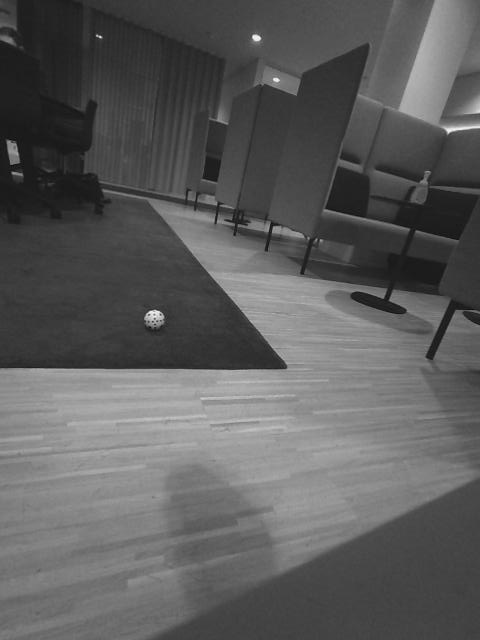dogtoy: (136, 305, 171, 336)
